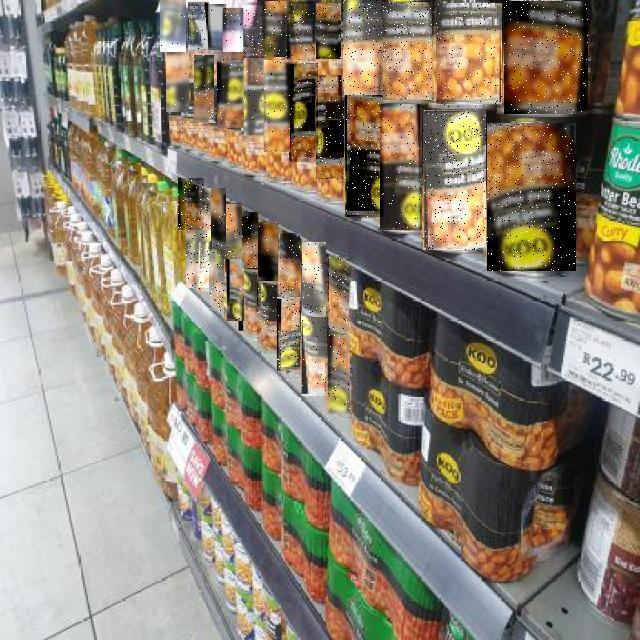Beans: (487, 123, 576, 271), (504, 1, 588, 114), (423, 110, 486, 250), (436, 4, 502, 108), (380, 105, 422, 231), (383, 2, 432, 100), (345, 95, 383, 217), (343, 0, 383, 95), (316, 76, 344, 182), (290, 63, 318, 162), (265, 60, 291, 152), (301, 316, 327, 396), (244, 58, 268, 142), (217, 61, 246, 129), (302, 242, 326, 316), (328, 336, 350, 416), (277, 297, 300, 371), (287, 2, 315, 60), (186, 230, 211, 288), (257, 283, 277, 354), (239, 268, 261, 332), (263, 1, 288, 57), (316, 3, 341, 59), (166, 53, 189, 113), (160, 0, 186, 52), (178, 178, 204, 230), (330, 256, 348, 330), (194, 56, 214, 122), (280, 234, 300, 296), (225, 259, 245, 321), (242, 2, 264, 56), (259, 222, 279, 281), (210, 251, 228, 311), (188, 2, 209, 50), (211, 188, 226, 249), (242, 212, 258, 268), (223, 8, 243, 52), (226, 204, 242, 258), (208, 4, 226, 50), (200, 242, 216, 292), (198, 188, 211, 238)
